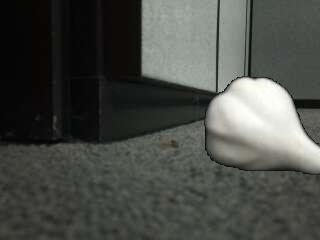Garlic: (203, 77, 320, 176)
